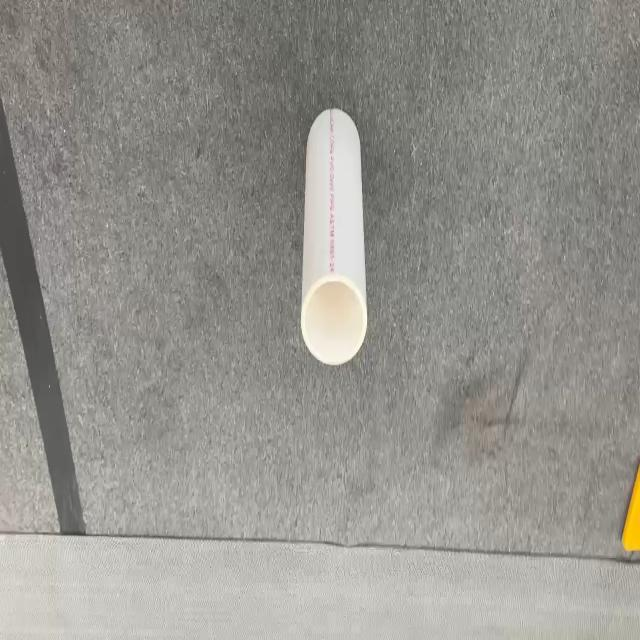coral: (300, 106, 368, 365)
